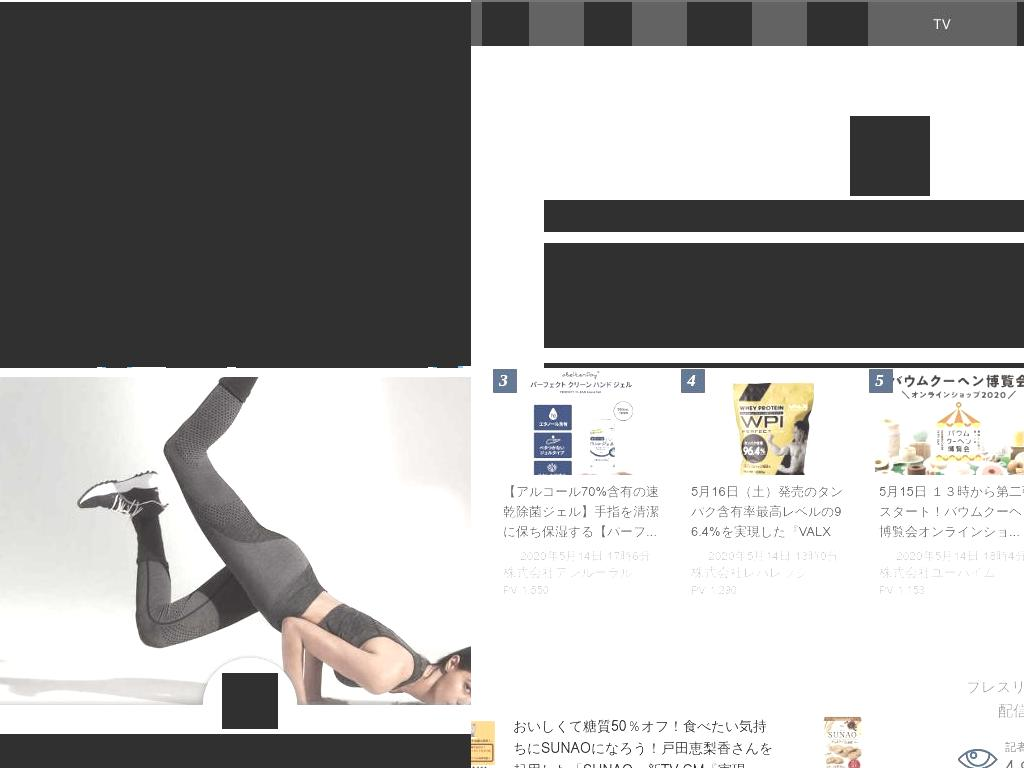button: (0, 368, 471, 749), (0, 2, 471, 366), (493, 369, 674, 603), (681, 369, 862, 603), (869, 369, 1024, 603), (513, 715, 893, 768), (222, 673, 278, 729), (687, 2, 752, 46), (807, 2, 868, 46), (584, 2, 632, 46), (482, 2, 529, 46), (923, 2, 962, 46)
heading: (544, 243, 1024, 348), (544, 200, 1024, 232), (513, 715, 778, 768), (471, 663, 893, 690), (966, 675, 1024, 699)
image: (0, 377, 471, 749), (0, 2, 448, 367), (493, 369, 674, 490), (681, 369, 862, 490), (869, 369, 1024, 490), (850, 116, 930, 196), (793, 715, 893, 768), (222, 673, 278, 729), (166, 341, 227, 368), (950, 739, 1005, 768), (106, 361, 127, 368), (437, 361, 458, 368)
link: (503, 482, 664, 547), (691, 482, 852, 547), (879, 482, 1024, 547), (503, 562, 633, 583), (691, 562, 808, 583), (879, 562, 996, 583), (503, 549, 664, 564), (691, 549, 852, 564), (503, 566, 664, 580), (691, 566, 852, 580), (879, 549, 1024, 564), (879, 566, 1024, 580), (503, 584, 664, 596), (691, 584, 852, 596), (879, 584, 1024, 596), (177, 753, 201, 768)
text: (0, 734, 471, 768), (0, 711, 471, 733), (0, 753, 471, 768), (236, 349, 428, 368), (503, 548, 664, 563), (691, 548, 852, 563), (201, 753, 353, 768), (879, 548, 1024, 563), (503, 584, 664, 596), (691, 584, 852, 596), (0, 349, 97, 368), (353, 753, 471, 768), (879, 584, 1024, 596), (493, 369, 517, 393), (681, 369, 705, 393), (869, 369, 893, 393)
